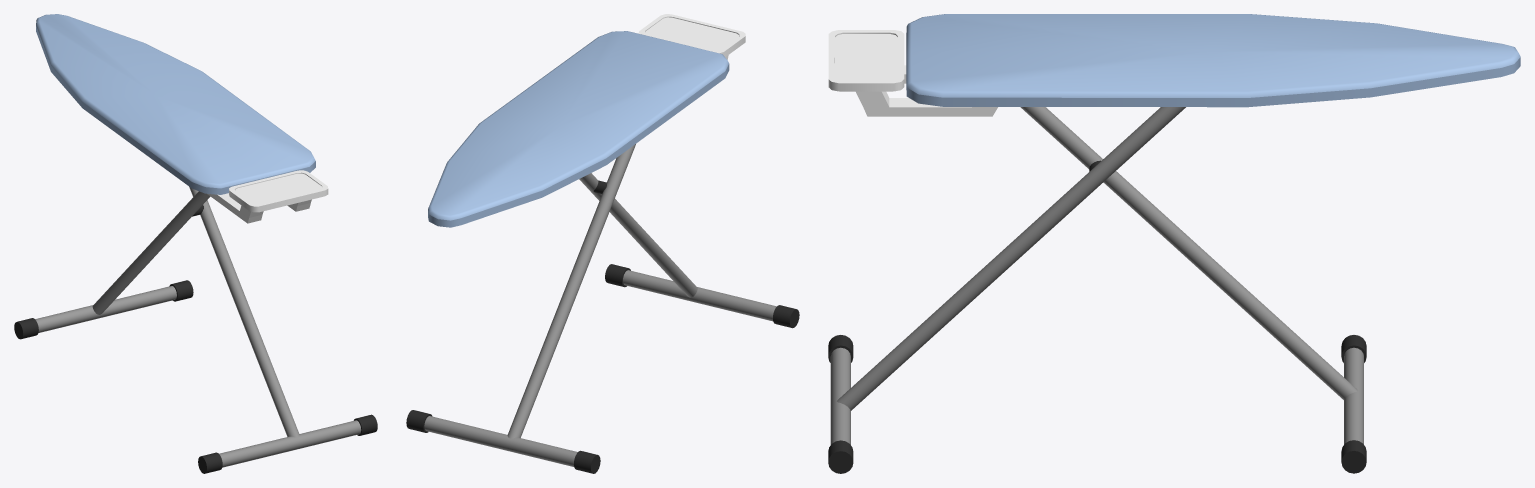
The model's file is plancheARepasser.obj.
3 views of the same model, side by side, from view 1: azimuth 30°, elevation 25°; view 2: azimuth 150°, elevation 25°; view 3: azimuth 270°, elevation 25° (orthographic). The views are drawn at different scales.
Parts seen in each view (by area): view 1: planche, pied_1, Cylinder_10_1, pied_2, Cylinder_10, rectangle_arrondi, Boolean_1, Cube_6_1, embout_1, embout_3; view 2: planche, pied_2, Cylinder_10, Cylinder_10_1, pied_1, rectangle_arrondi, Boolean_1, embout_3, embout_1; view 3: planche, pied_1, pied_2, rectangle_arrondi, Cube_6, Boolean_1, Cylinder_10_1, Cylinder_10, embout_4, embout_2.
Boxes of the visible parts, x1,y1,x2,y2 form: planche: (36,14,315,194); pied_1: (189,186,299,437); Cylinder_10_1: (219,420,361,467); pied_2: (92,191,210,314); Cylinder_10: (35,286,176,332); rectangle_arrondi: (235,173,322,203); Boolean_1: (229,170,328,212); Cube_6_1: (207,193,263,223); embout_1: (198,452,222,473); embout_3: (14,318,38,339); planche: (428,31,729,227); pied_2: (507,144,635,438); Cylinder_10: (424,416,577,466); Cylinder_10_1: (623,270,776,321); pied_1: (579,173,697,297); rectangle_arrondi: (645,17,738,50); Boolean_1: (638,14,745,57); embout_3: (574,450,600,473); embout_1: (773,305,799,328); planche: (906,14,1520,107); pied_1: (837,107,1185,410); pied_2: (1020,107,1357,399); rectangle_arrondi: (835,34,897,80); Cube_6: (856,91,997,116); Boolean_1: (828,30,904,91); Cylinder_10_1: (830,347,850,444); Cylinder_10: (1344,347,1363,444); embout_4: (1341,440,1366,473); embout_2: (828,440,853,473).
Bounding box in the file's own units: 54.5 × 79.5 × 137.
